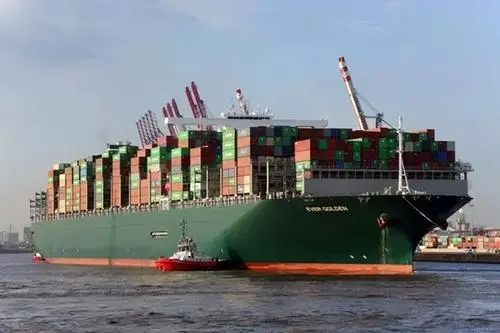Cargoship: (26, 64, 468, 273)
otherboat: (154, 218, 223, 275)
